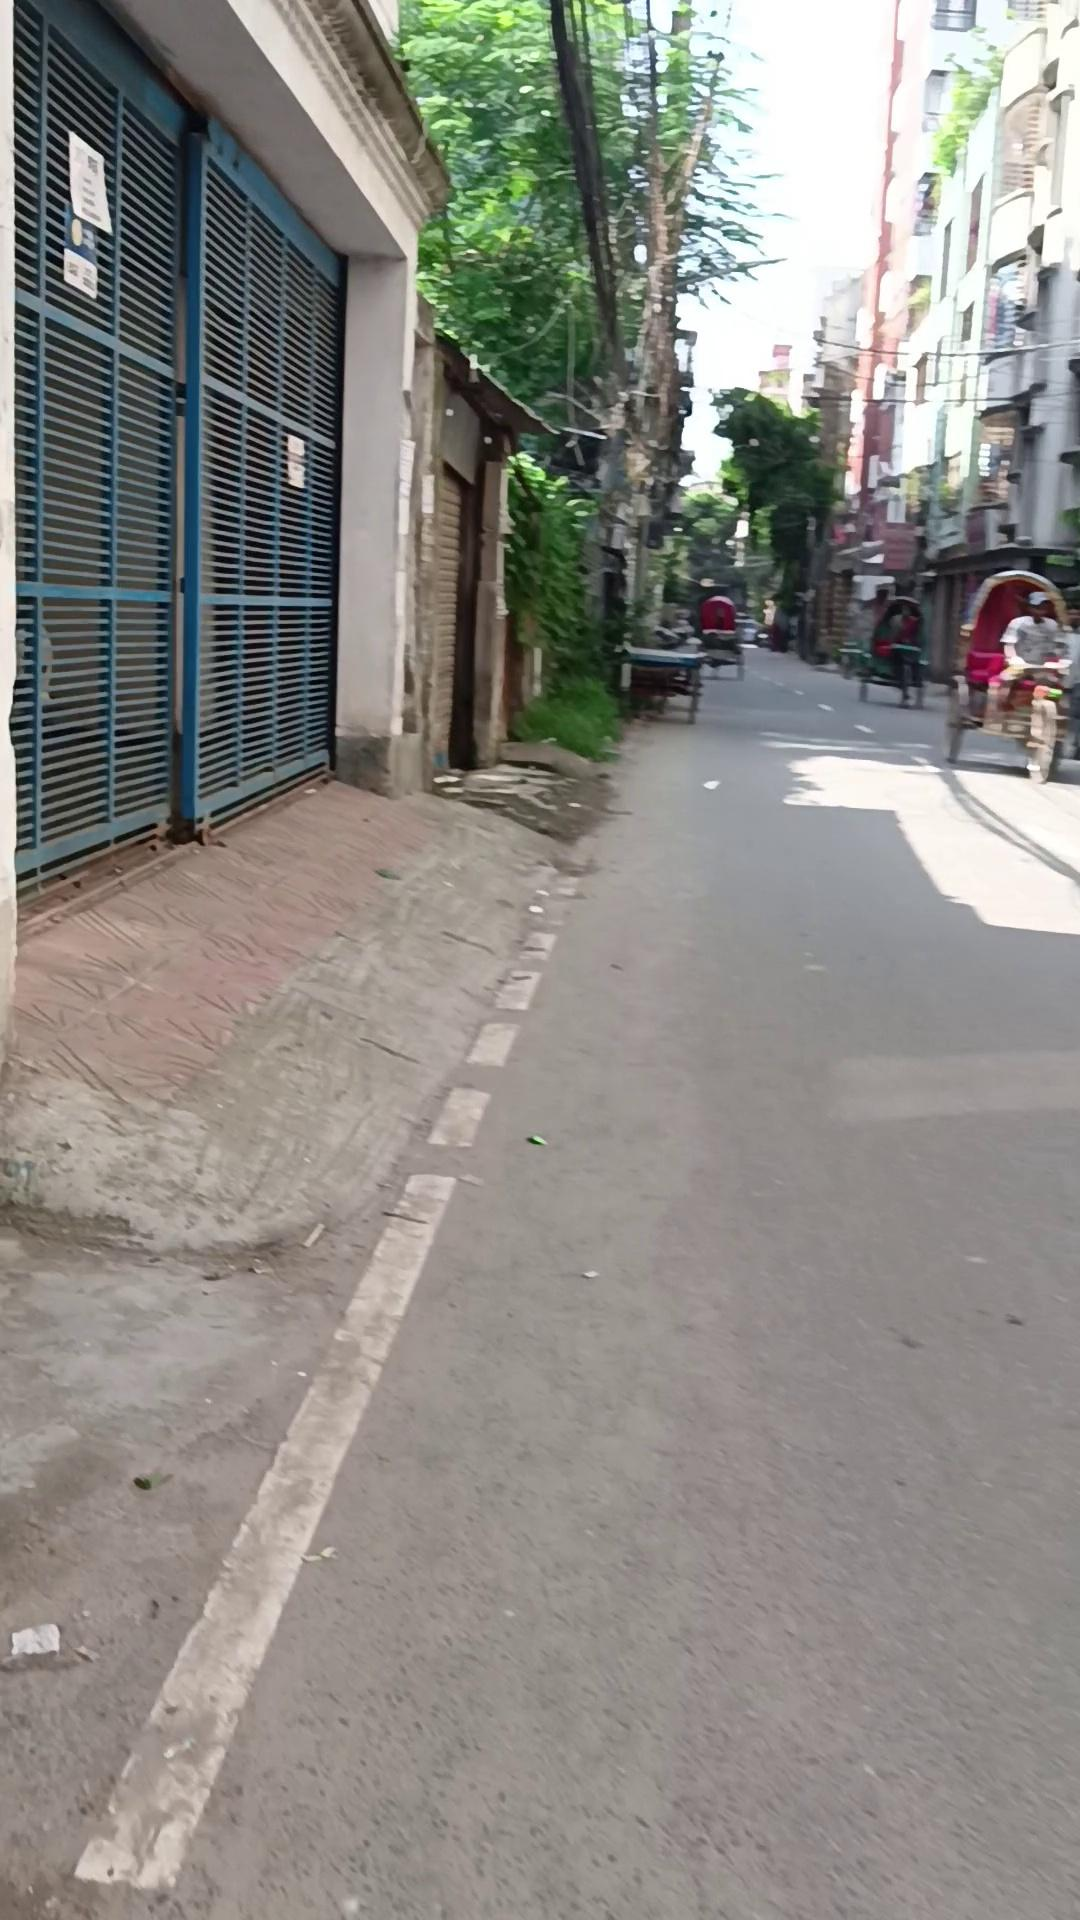Broken-road: (15, 764, 330, 935)
Cat: (699, 628, 742, 679)
Garbage: (4, 771, 444, 1117)
Light-pole: (380, 0, 779, 723), (709, 384, 841, 651)
Obstacle: (98, 0, 448, 800)
